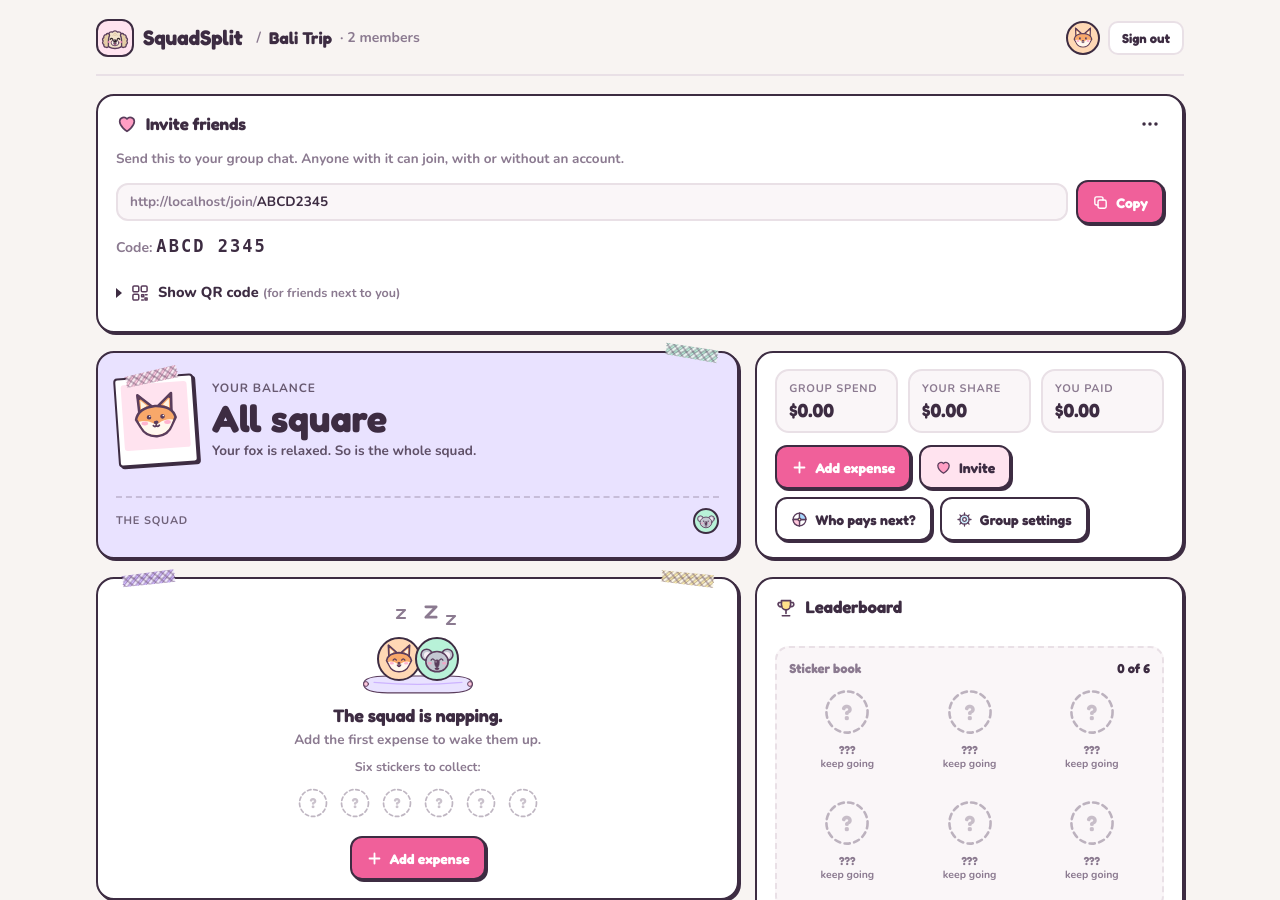
Test: page transitions › opens the expense dialog without a page transition (the dialog animates itself)
Click the link "Add expense" below "Group spend" at (843, 467), box [775, 445, 911, 489]
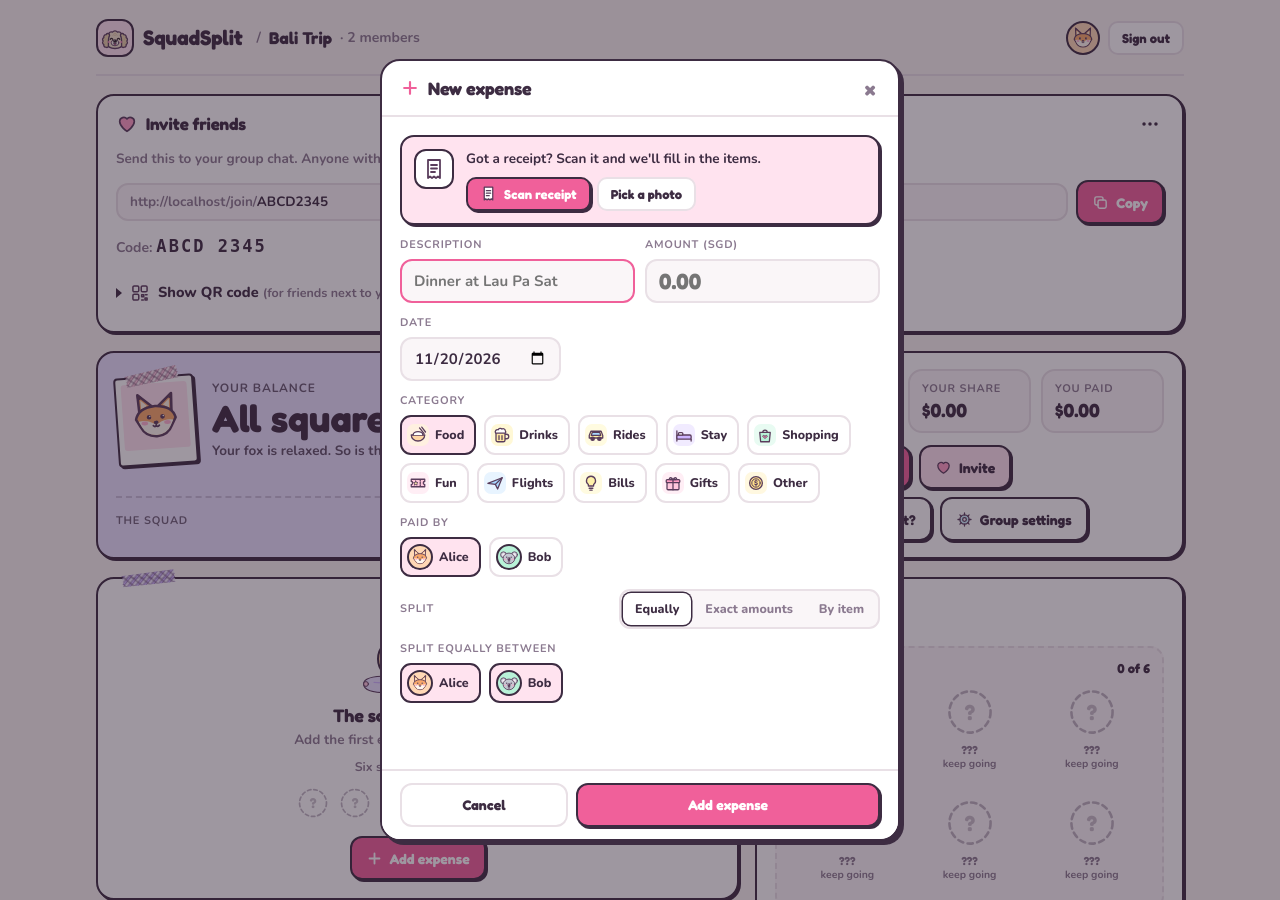
Check: the dialog "New expense" is shown, box [380, 59, 900, 841]
